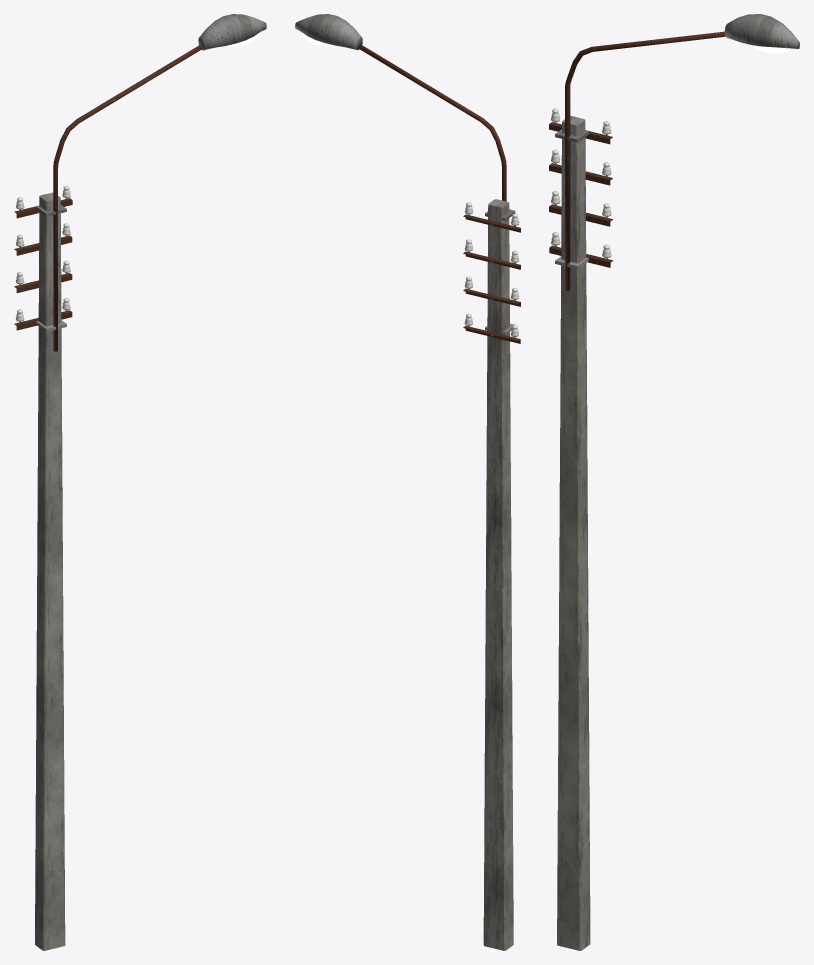
Rendered from pole_sv95_lamp_lod1_web.glb.
The picture shows the model from 3 angles, left to right: view 1: azimuth 30°, elevation 25°; view 2: azimuth 150°, elevation 25°; view 3: azimuth 330°, elevation 25°; orthographic projection. The views are drawn at different scales.
Visible parts, largest first — view 1: PoleSV95_Lamp_Mesh; view 2: PoleSV95_Lamp_Mesh; view 3: PoleSV95_Lamp_Mesh.
Part boxes in pixels (x1,y1,x2,y2): PoleSV95_Lamp_Mesh: (14, 14, 266, 950); PoleSV95_Lamp_Mesh: (295, 14, 520, 950); PoleSV95_Lamp_Mesh: (549, 14, 799, 950).
Size of the model in its own units: 2.66 by 9.52 by 0.4327.
5 materials, 3 textured.
